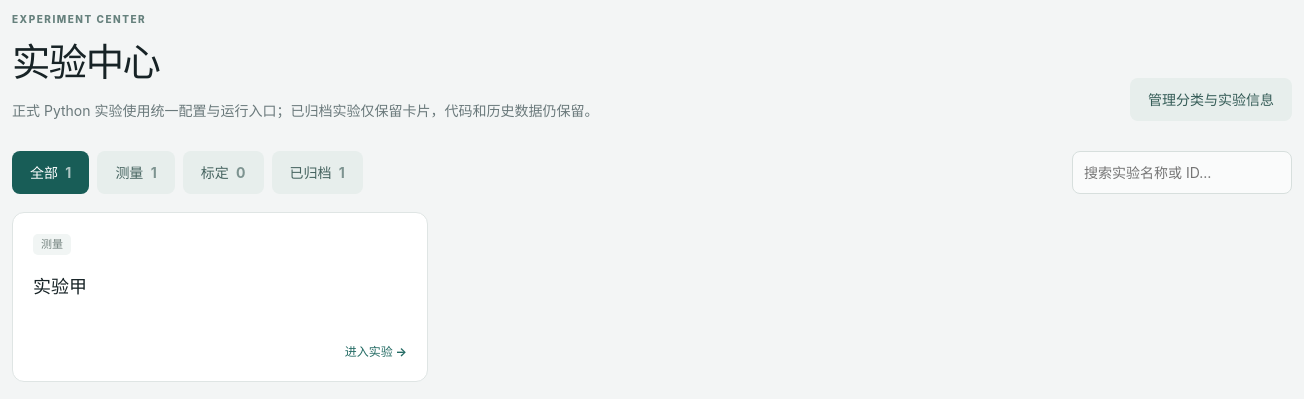
实验中心可逆归档 › 普通列表、分类和搜索排除归档，归档入口可独立搜索但只显示卡片
Expected: the heading "实验甲" is shown, [33,276,87,297]
Expected: the heading "实验乙" is not shown
Type "实验乙" into the field labelled "搜索实验" at (1182, 172), box [1072,151,1292,194]
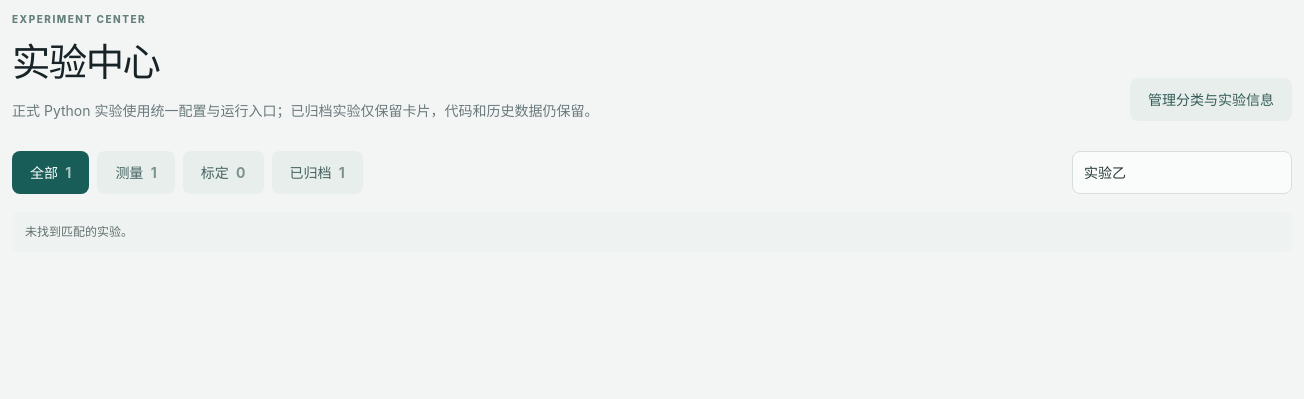
Expected: the text "未找到匹配的实验。" is shown, [12,212,1292,252]
Click the button "已归档 1" at (317, 172), box [272,151,363,194]
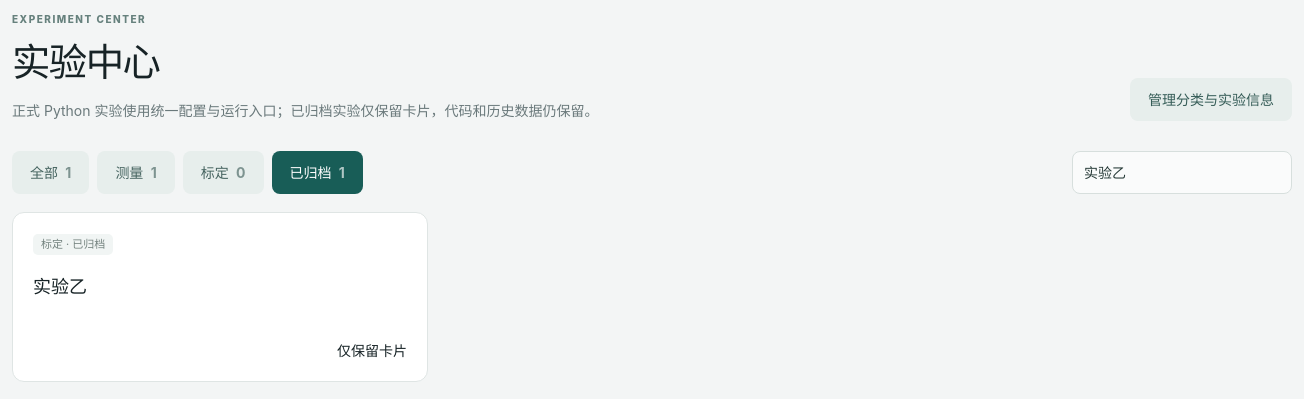
Expected: the heading "实验乙" is shown, [33,276,87,297]
Expected: the text "标定 · 已归档" is shown, [33,234,113,255]
Expected: the text "仅保留卡片" is shown, [337,340,407,361]
Clear the field named "搜索实验" at (1182, 172), box [1072,151,1292,194]
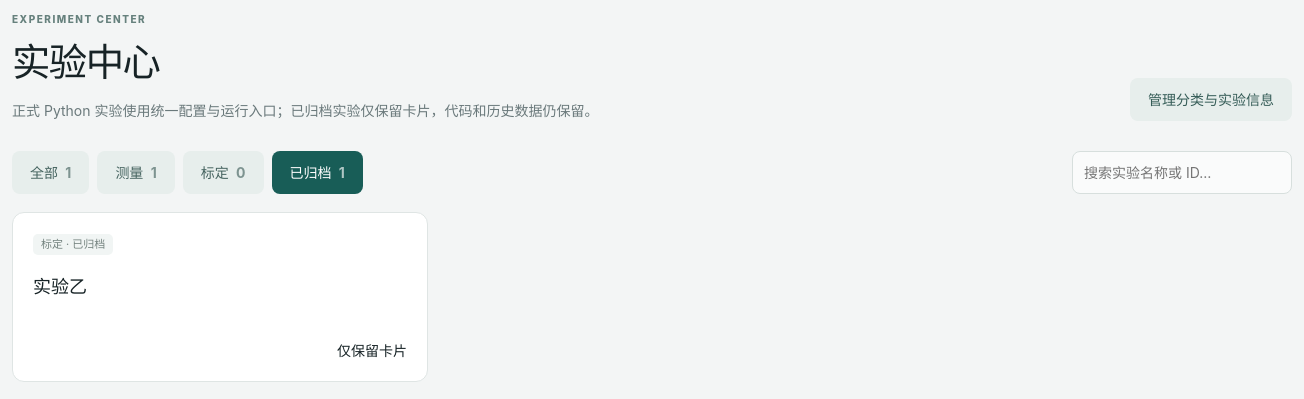
Click the button "标定 0" at (223, 172), box [183,151,264,194]
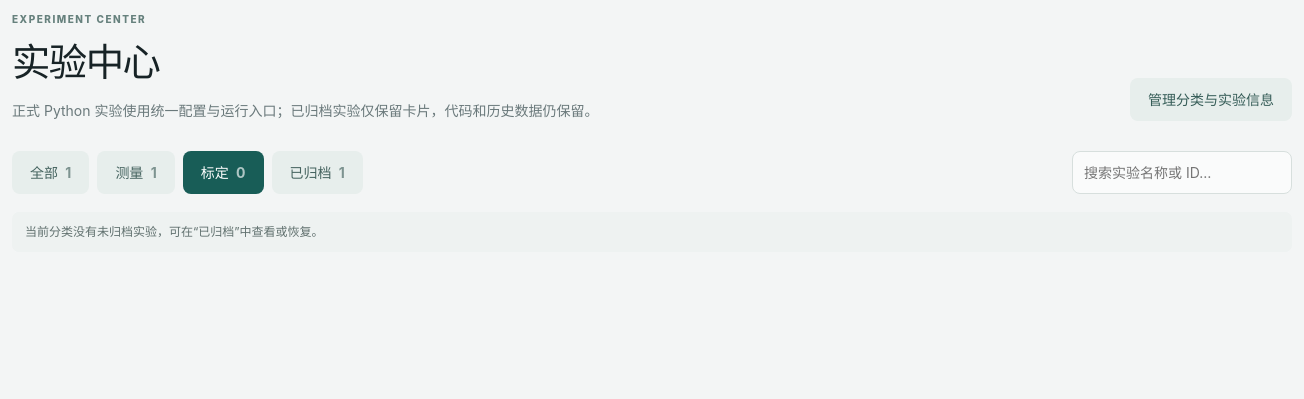
Expected: the heading "实验乙" is gone
